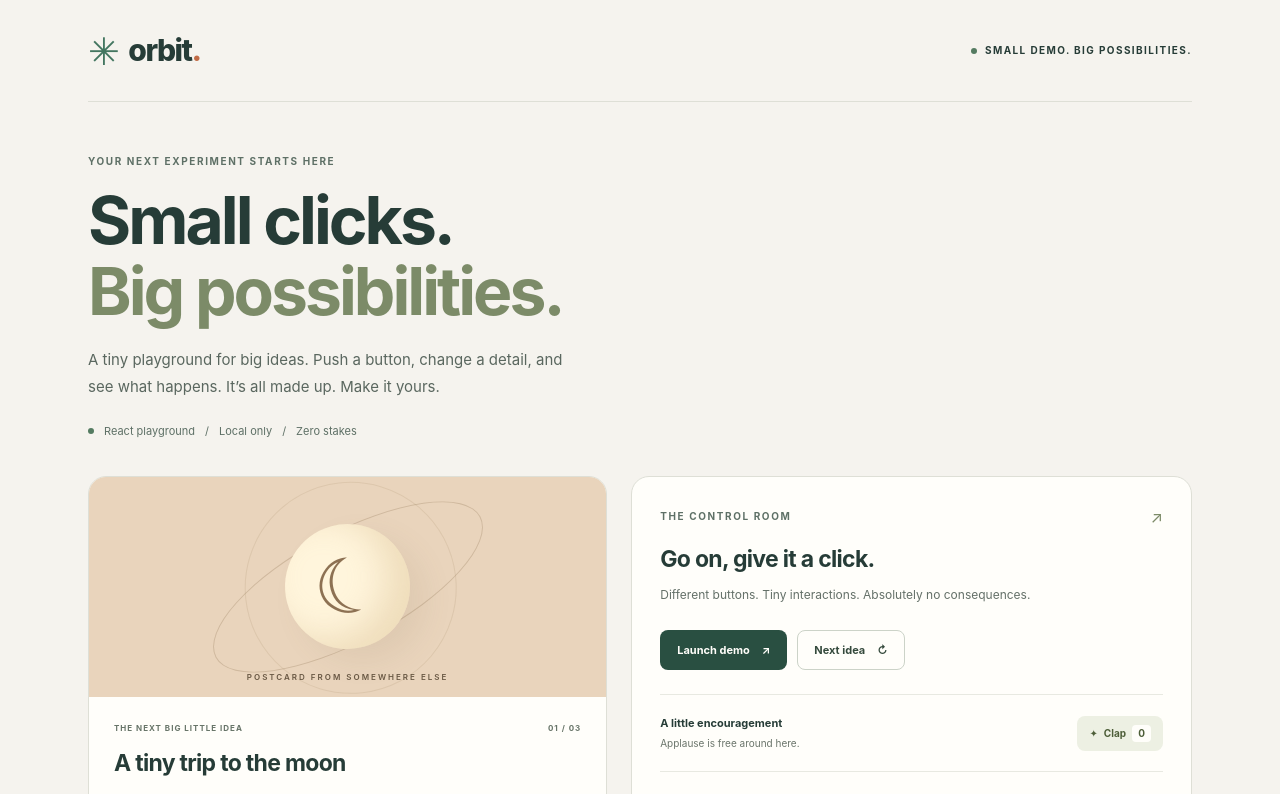
Test: Orbit playground › resets every experiment and starts fresh on remount
Later steps or results of the test are not shown.
Click the button "Next idea ↻" at (851, 650), box [797,630,905,670]
(page scrolled)
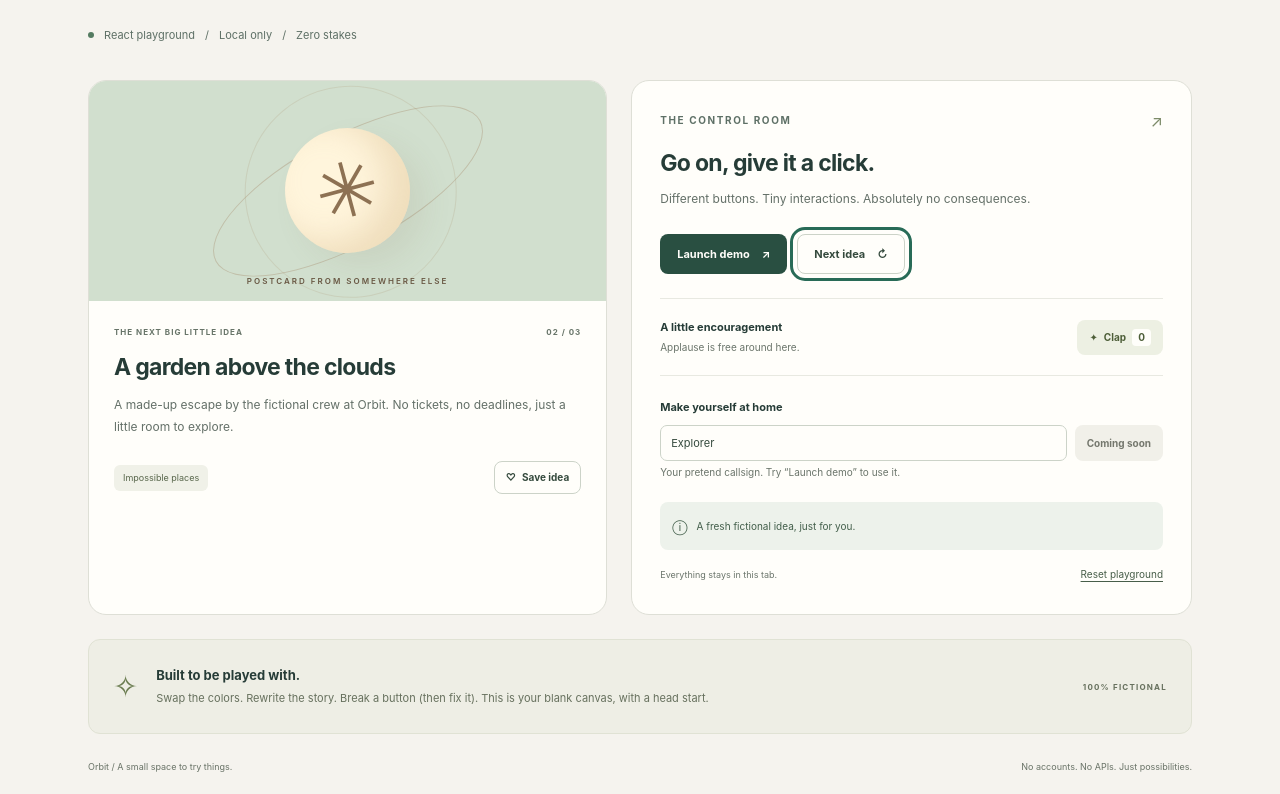
Click the button "♡ Save idea" at (538, 478), box [494,461,581,494]
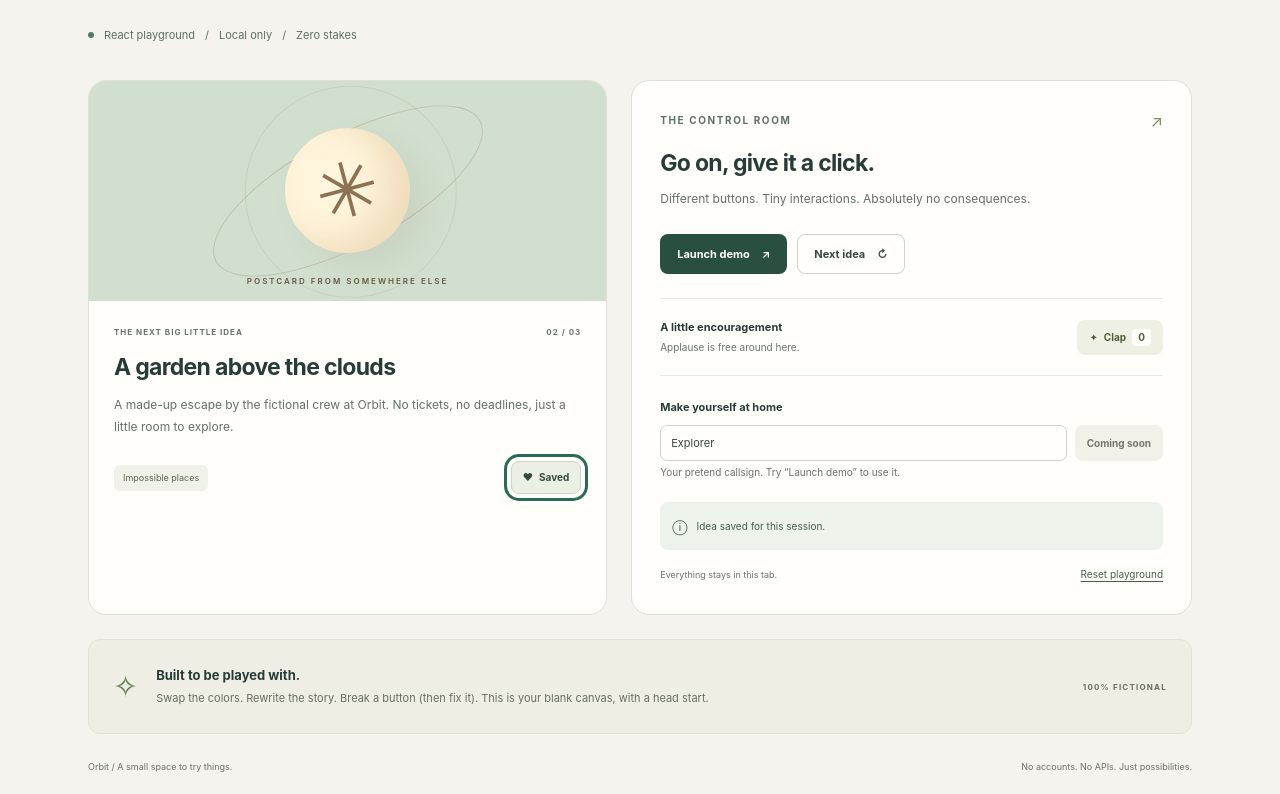
Click the button with aria-label "Clap, 0 claps" at (1120, 337), box [1077,320,1163,355]
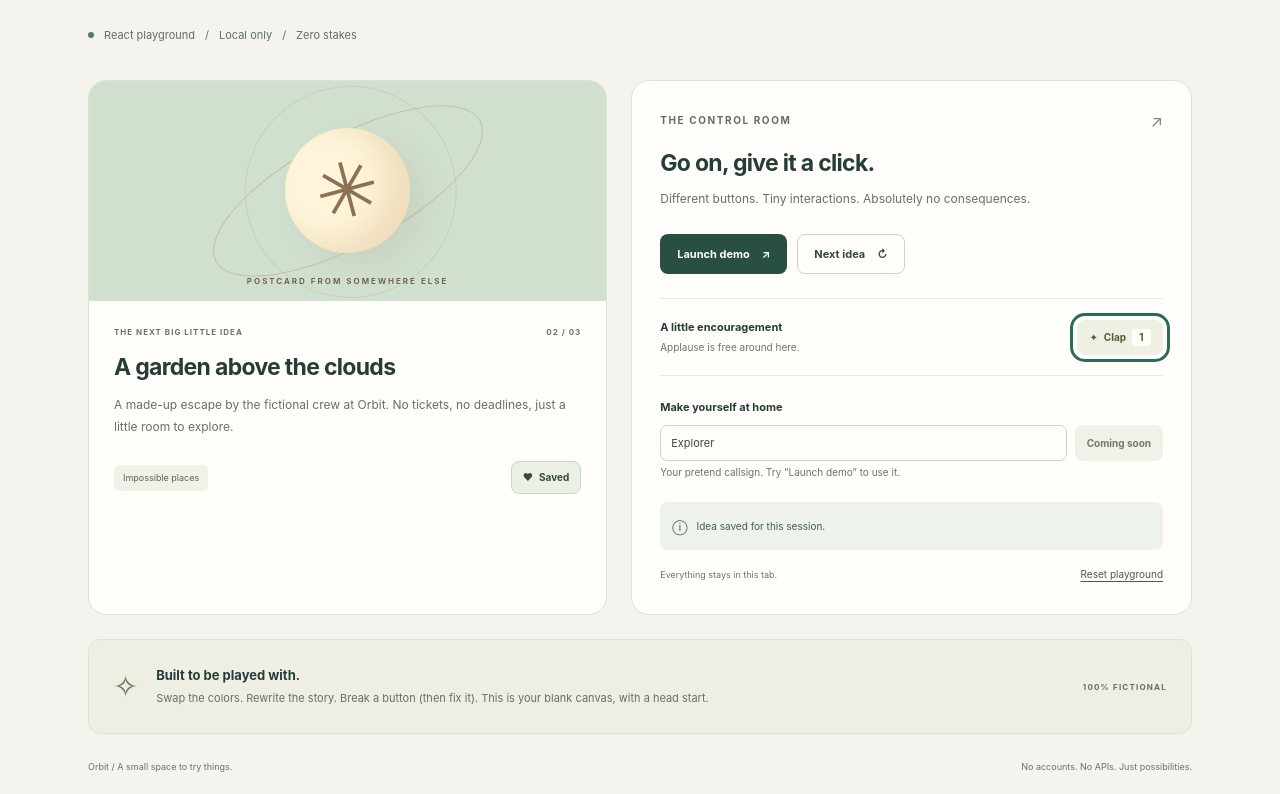
Type " Nova" into the field at (863, 443), box [660,425,1067,461]
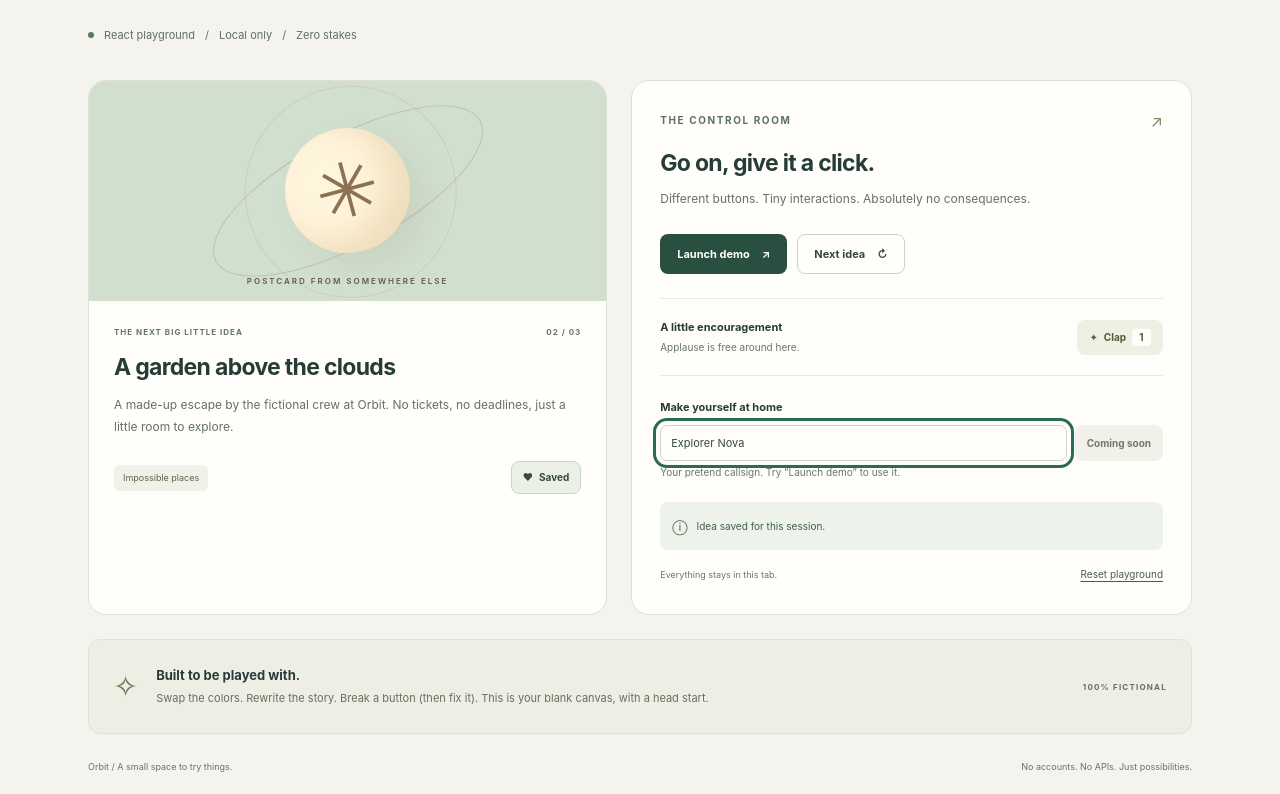
Click the button "Reset playground" at (1122, 575), box [1081,563,1163,586]
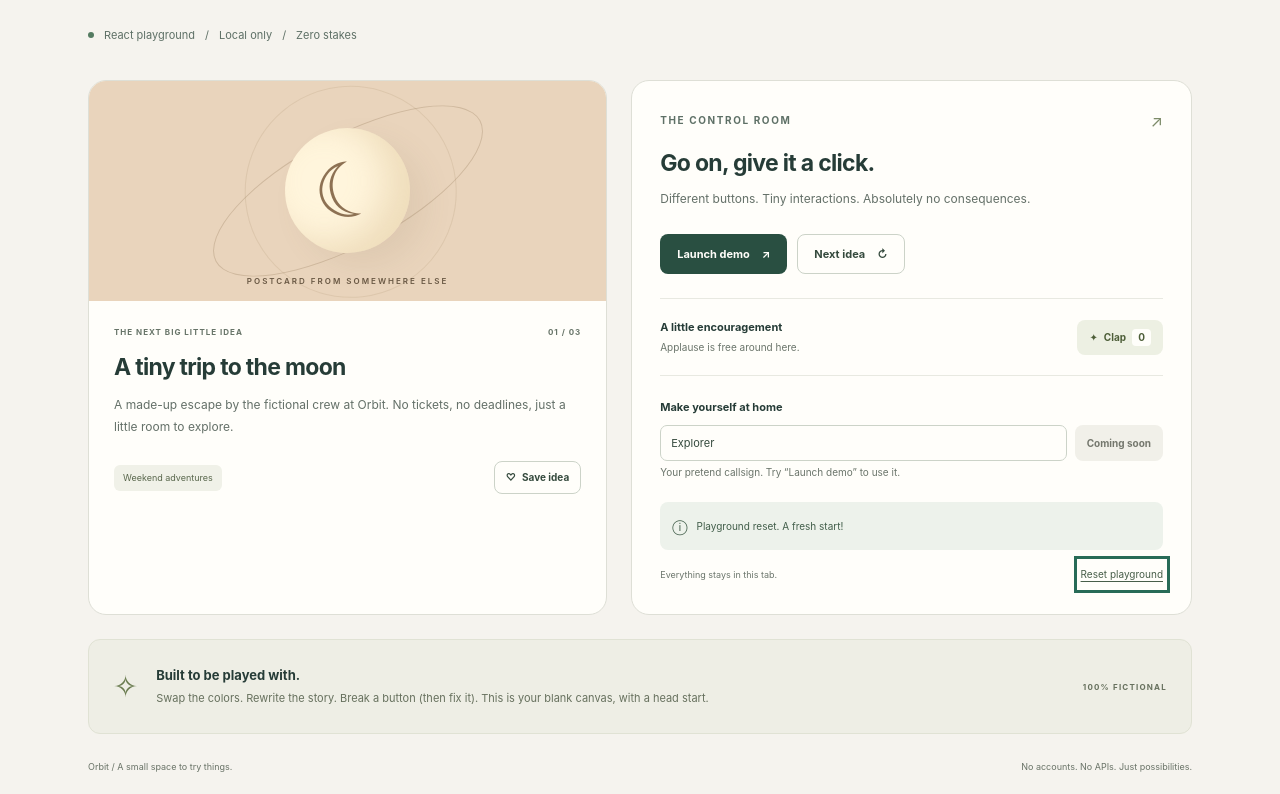
Result: the heading "A tiny trip to the moon" is shown at [114,353,346,381]
Result: the button with aria-label "Clap, 0 claps" is shown at [1077,320,1163,355]
Result: the field holds "Explorer" at [660,425,1067,461]
